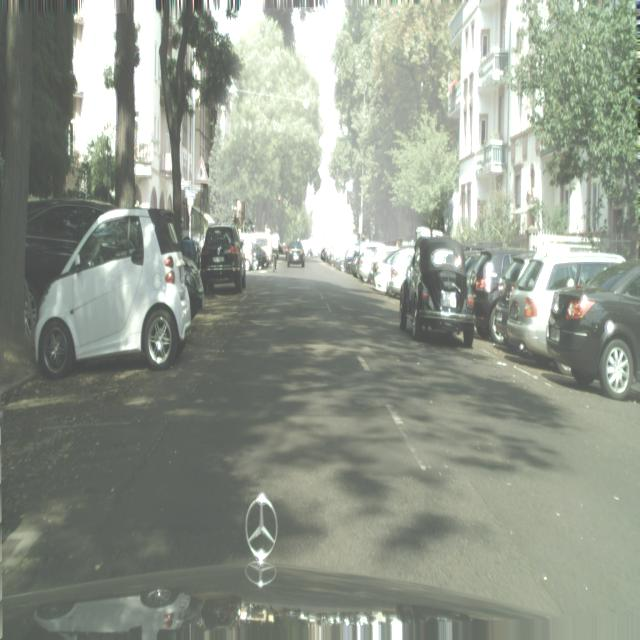person: (32, 206, 193, 378), (545, 259, 640, 401), (505, 251, 626, 358), (25, 198, 112, 309), (399, 231, 476, 348), (470, 251, 514, 338), (490, 257, 530, 342), (200, 224, 246, 294), (387, 248, 414, 299), (372, 248, 399, 291), (355, 242, 384, 282), (287, 240, 305, 268), (343, 244, 359, 274)
